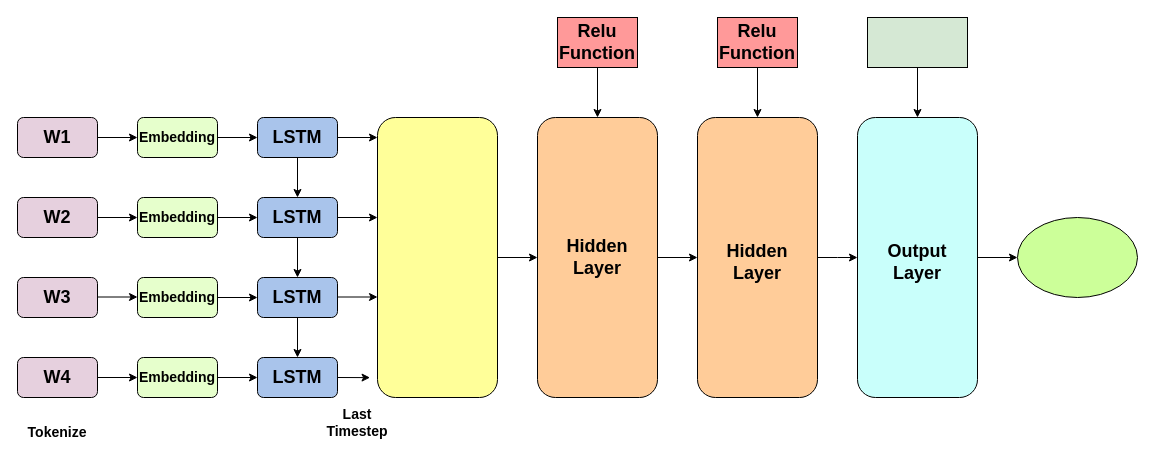
Some shapes in this 1155 by 465 pixel diagram are drawn without their labels. The shapes that lost their labels are listed below. From the top down, each one's centre as x and y in pixels, then its label:
[917,42]: Sigmoid Function
[437,257]: Fully Connected Layer
[1077,257]: Positive or Negative
